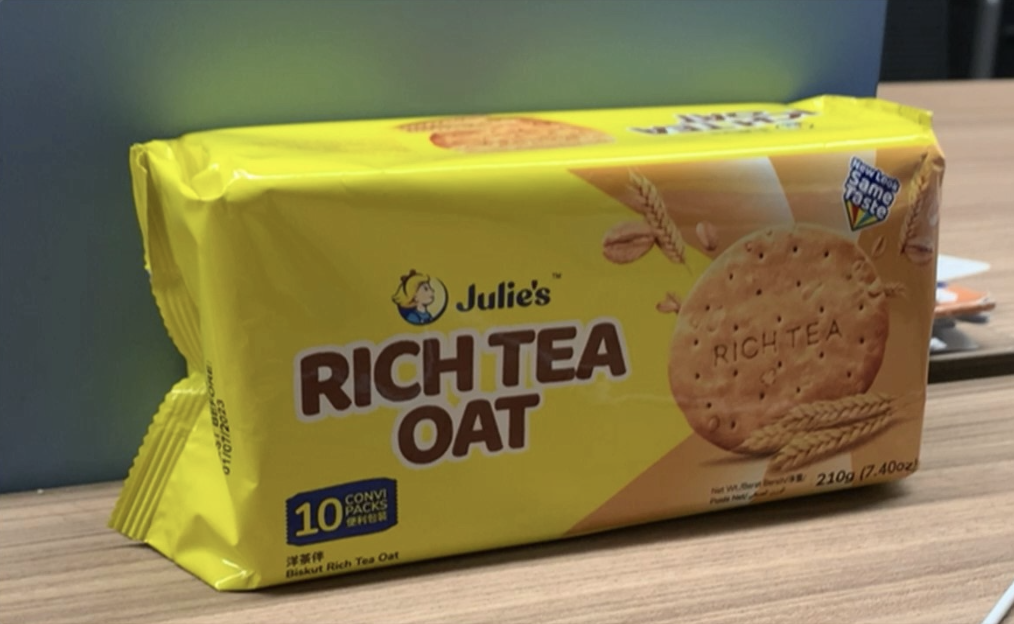cookies_150g: (258, 186, 884, 490)
